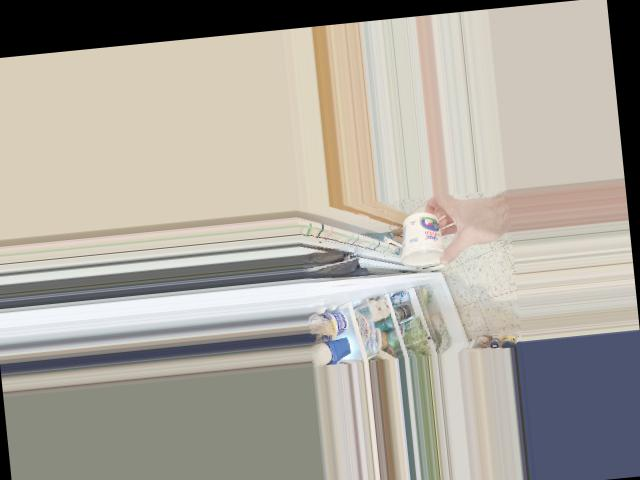cotage: (395, 206, 444, 266)
